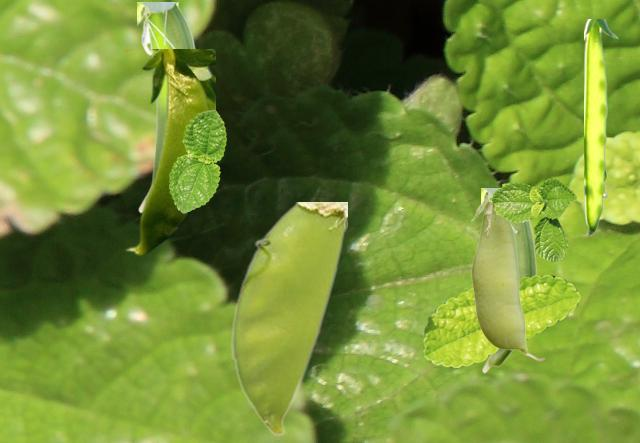pea: (231, 202, 346, 434), (125, 49, 214, 255), (137, 2, 197, 212), (470, 194, 544, 360), (481, 188, 537, 372), (584, 19, 617, 234)
